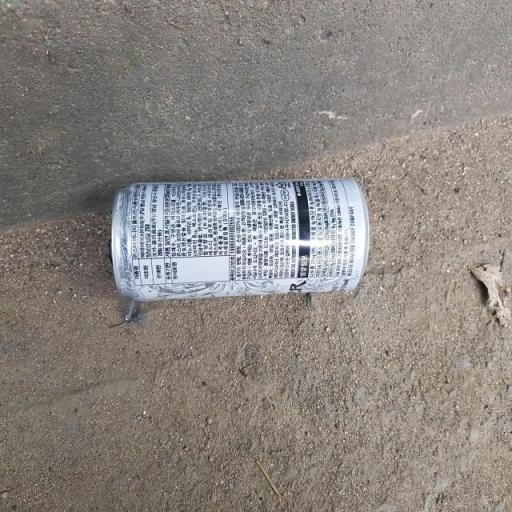metal: (90, 161, 404, 333)
